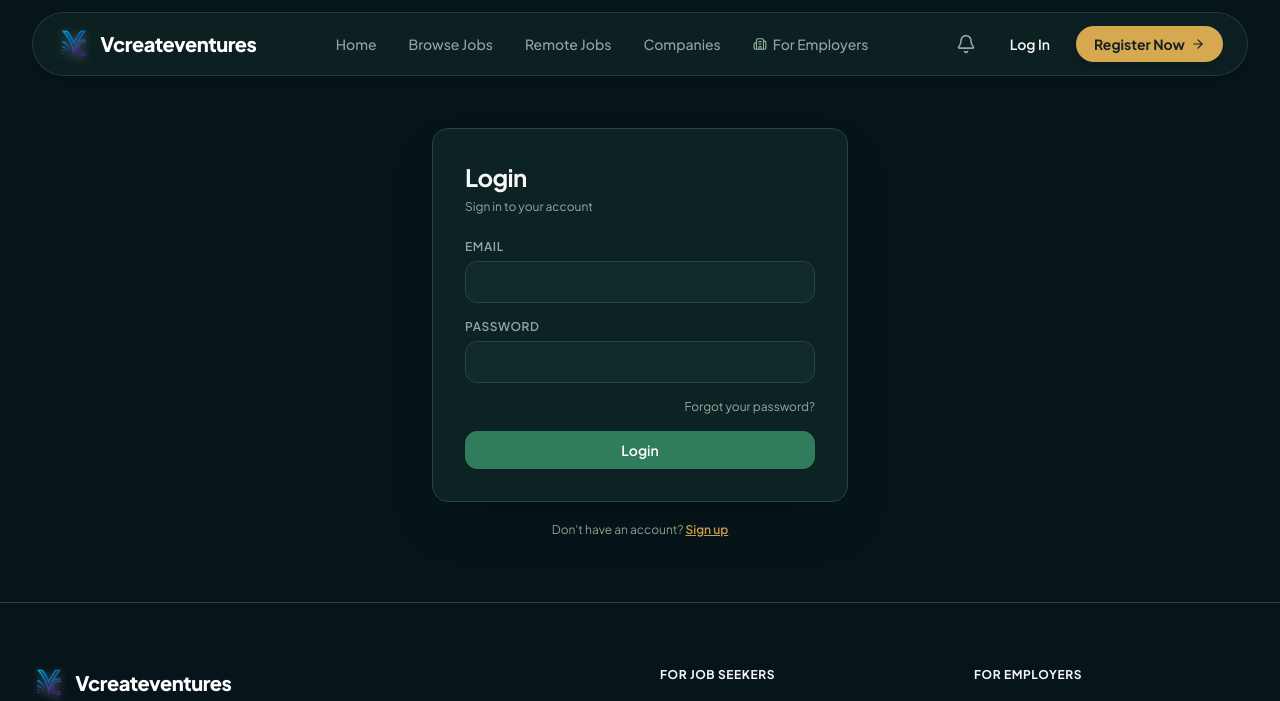
Test: login › khali form par validation error aata hai
The width and height of the screenshot is (1280, 701).
Click the button "Login" at (640, 450), box [465,431,815,469]
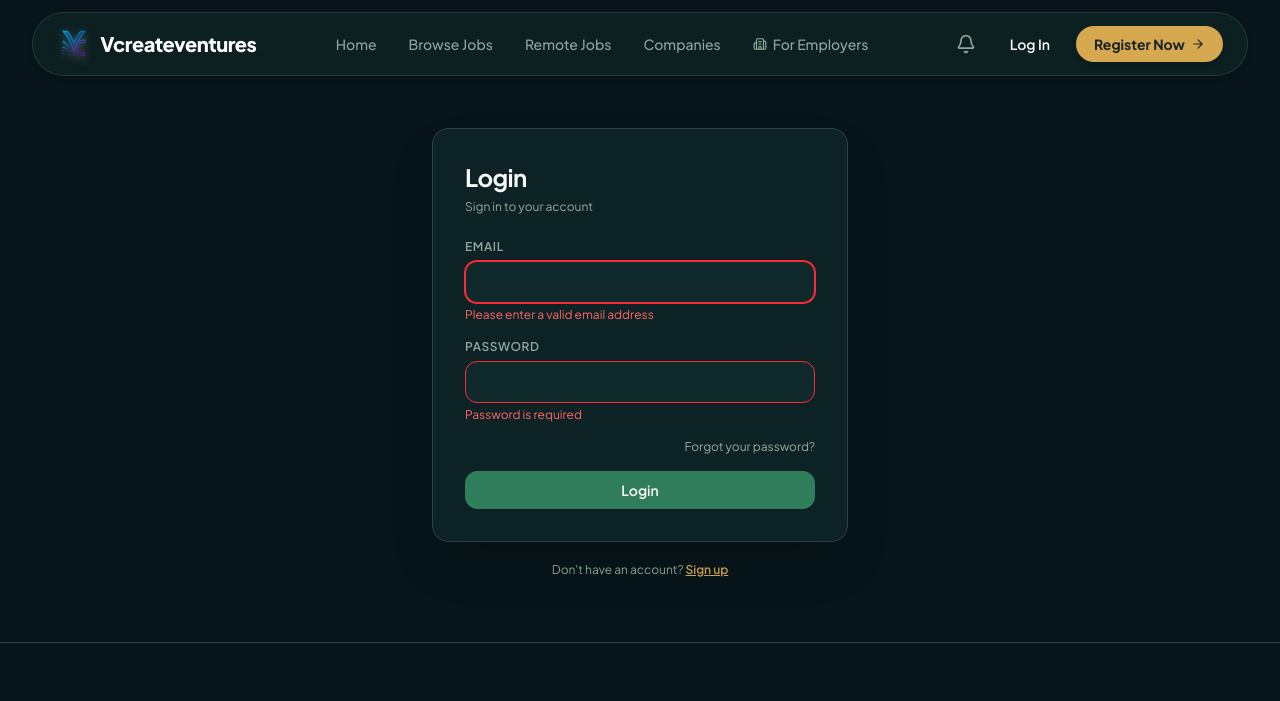
Now the text "Please enter a valid email address" is shown, box [465,307,654,322]
Now the text "Password is required" is shown, box [465,407,582,422]
